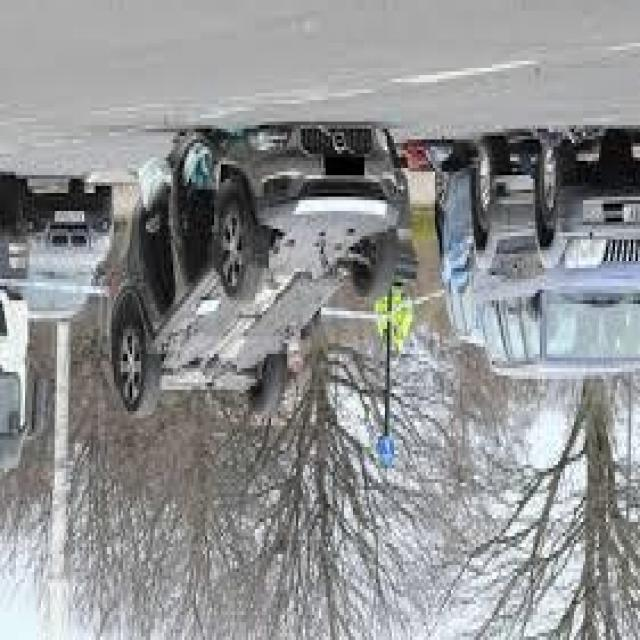severe: (107, 127, 403, 431)
